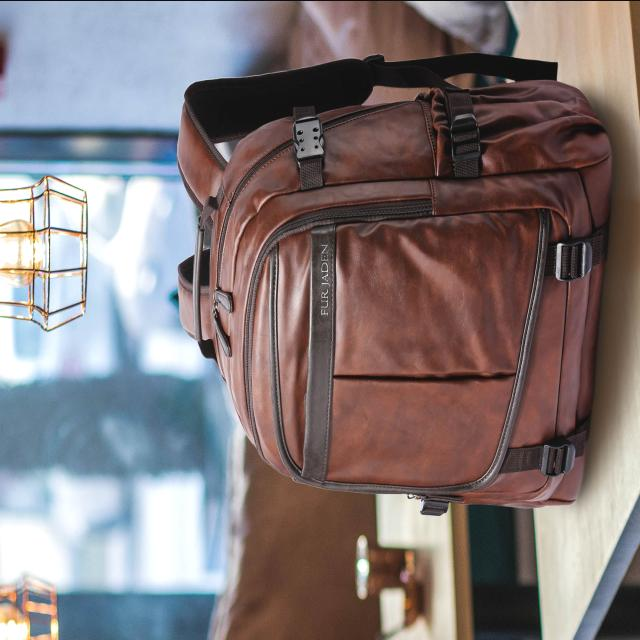backpack: (176, 52, 615, 516)
